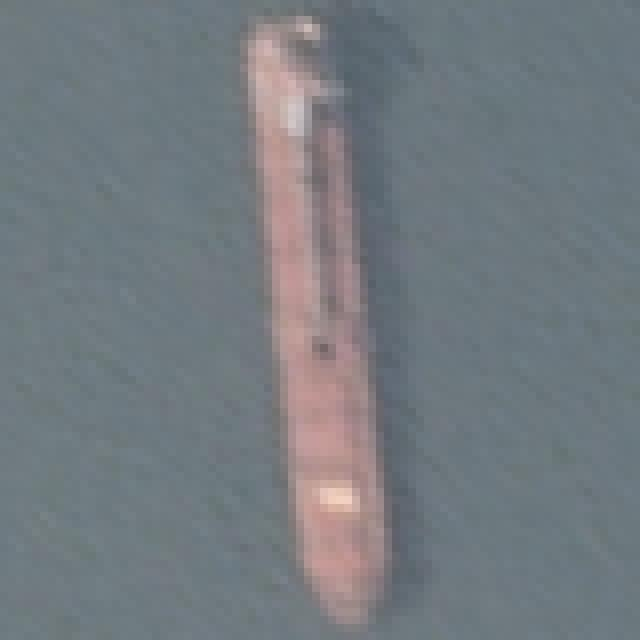ship: (215, 14, 450, 634)
